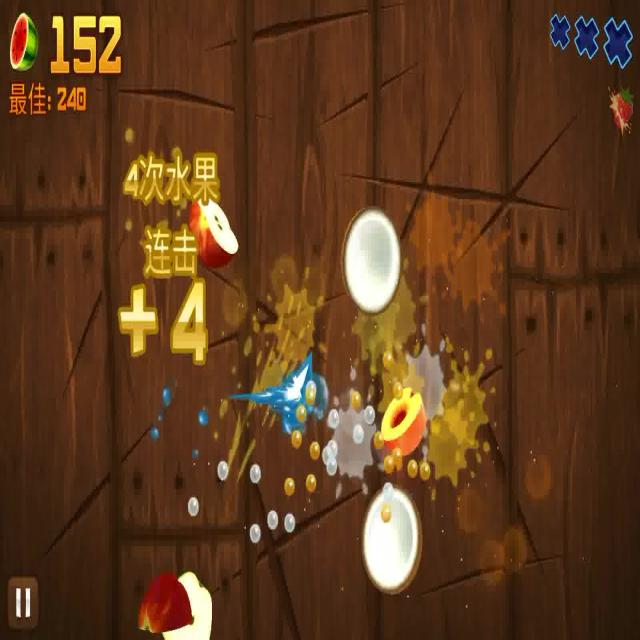fruit: (341, 200, 403, 316), (360, 487, 420, 591), (183, 180, 240, 274), (381, 380, 427, 454), (139, 574, 193, 635), (173, 572, 215, 638)
